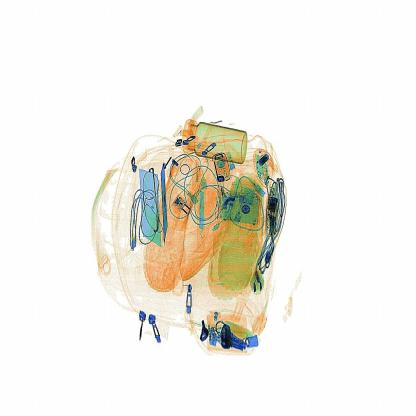pliers: (190, 184, 213, 272)
